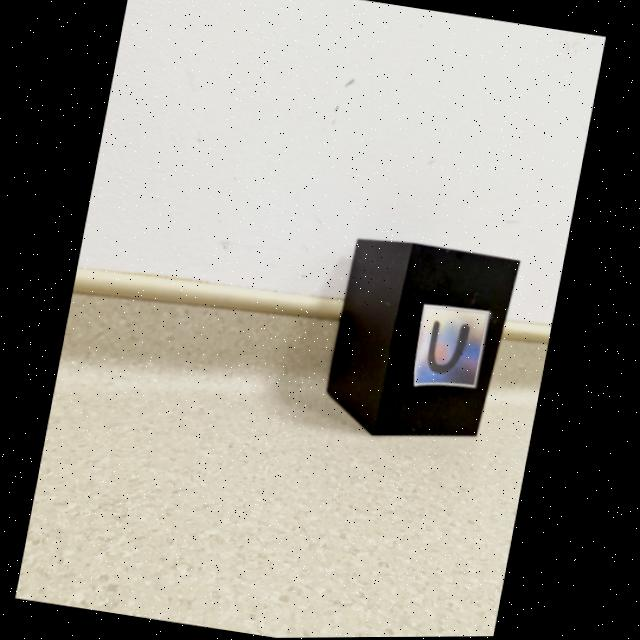U: (429, 321, 471, 374)
